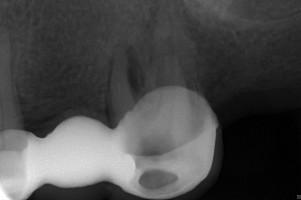Furcation Involvement: (106, 43, 142, 97)
